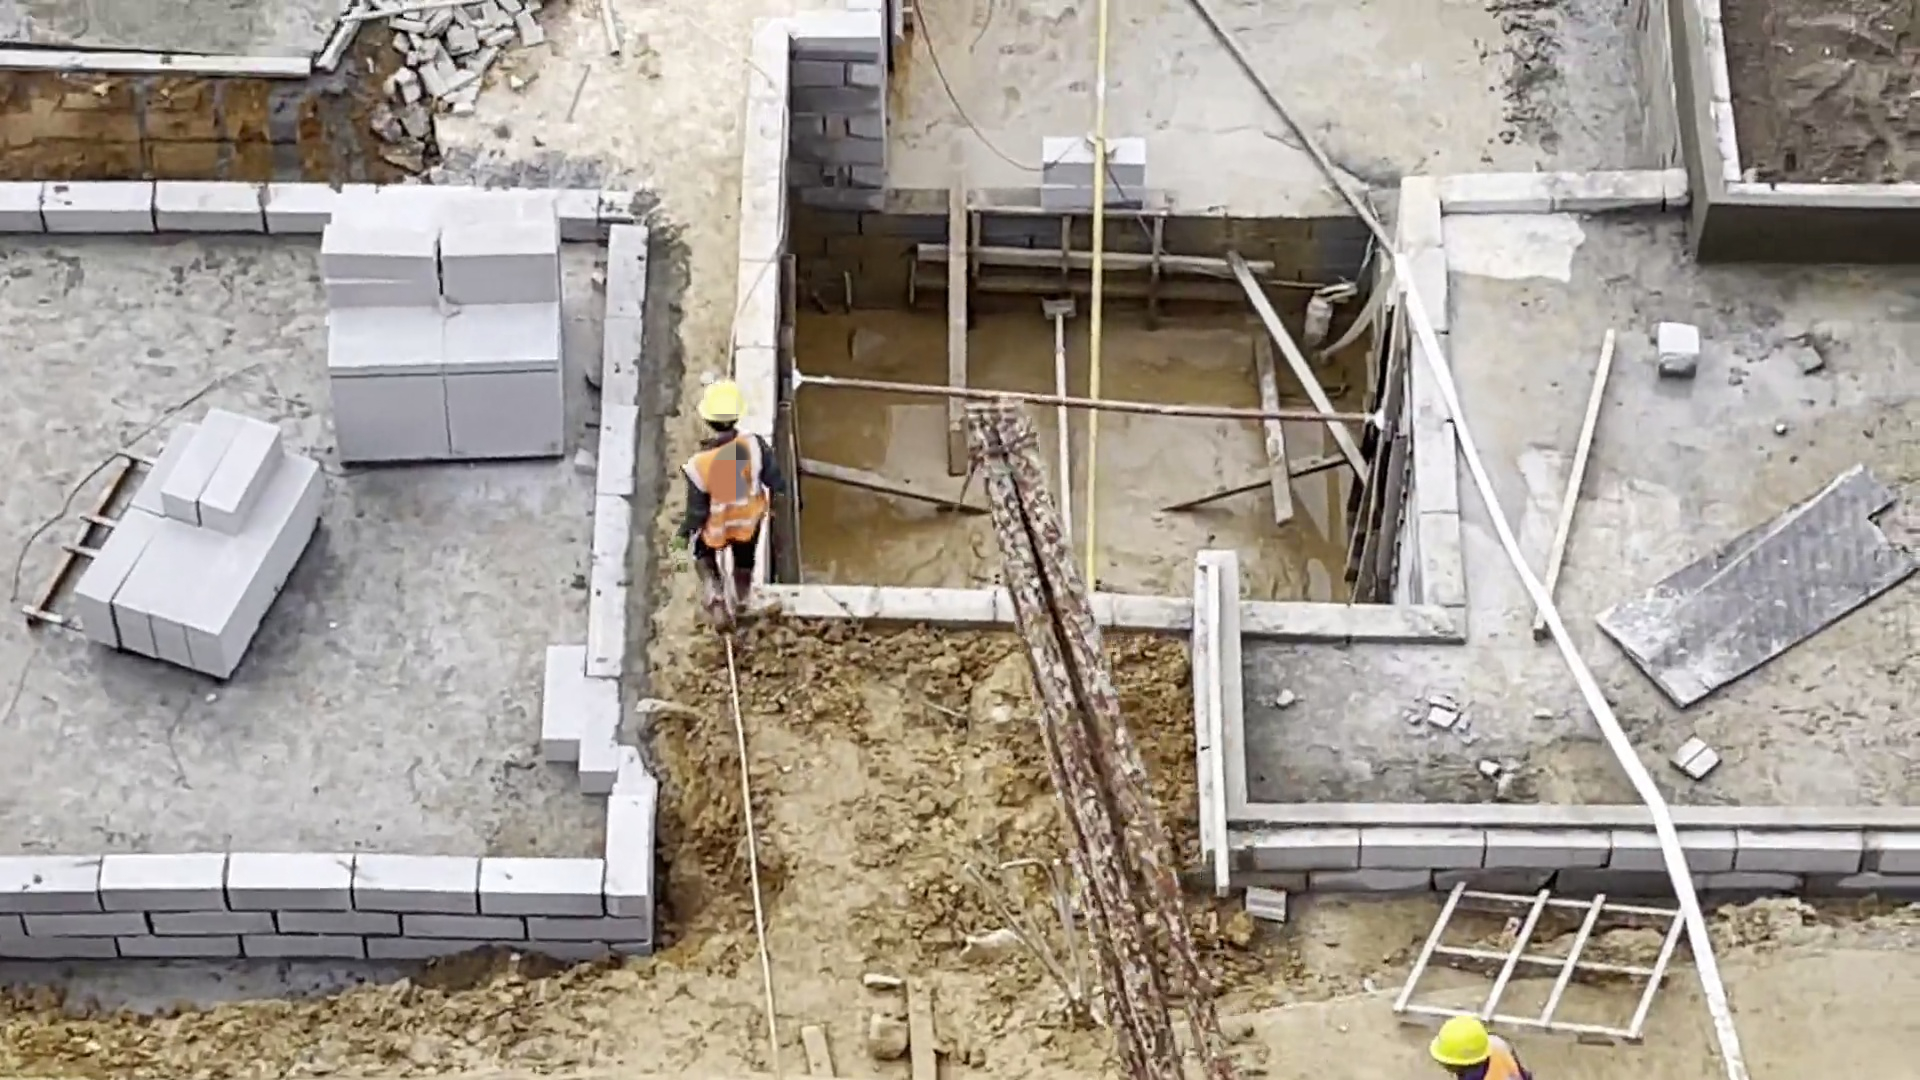brick: (75, 408, 326, 683), (317, 192, 566, 466)
helmet: (1430, 1015, 1493, 1069), (695, 379, 744, 426)
person: (671, 377, 788, 616), (1422, 1008, 1529, 1080)
vest: (697, 425, 769, 541)
